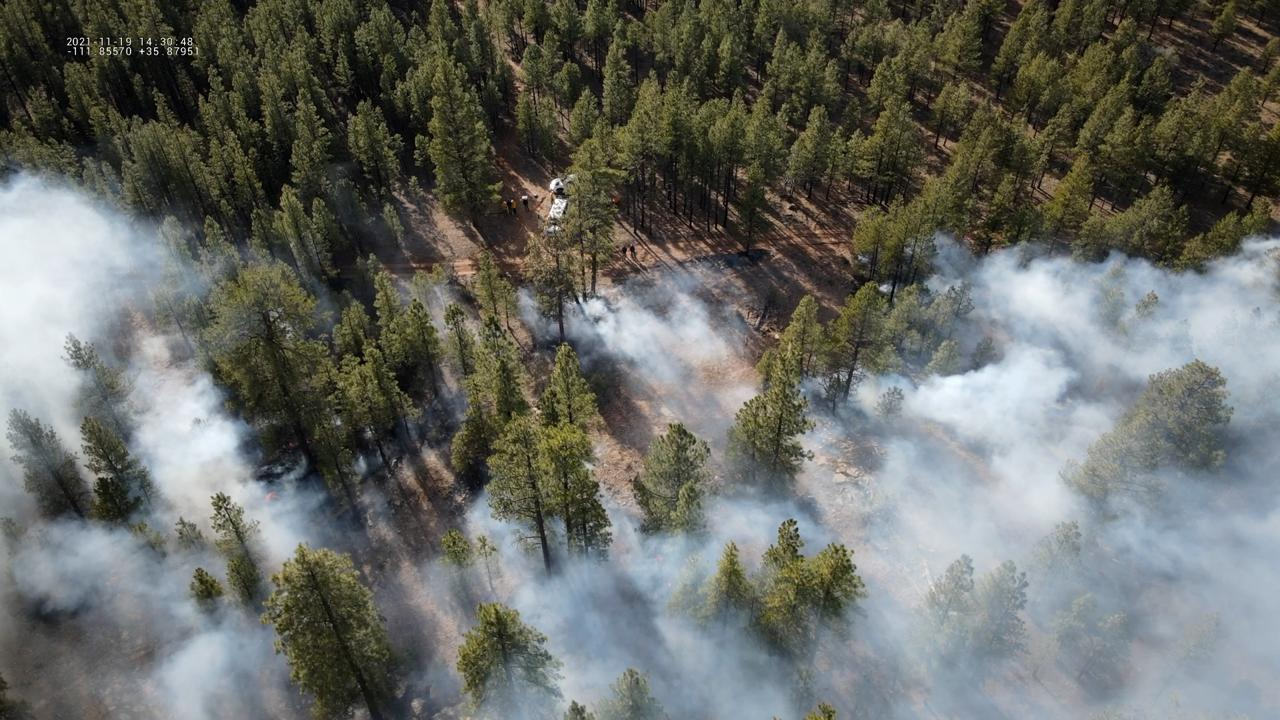fire: (263, 490, 276, 506), (611, 197, 617, 203)
smoke: (0, 162, 1280, 720)
